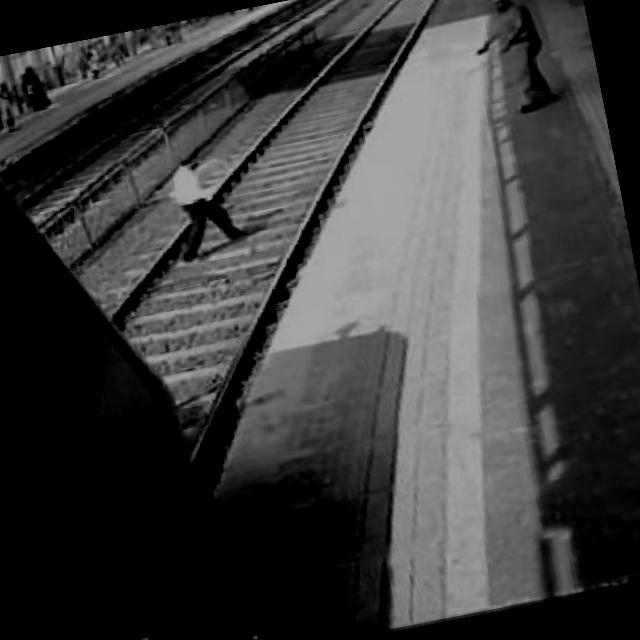Person: (155, 142, 240, 268)
